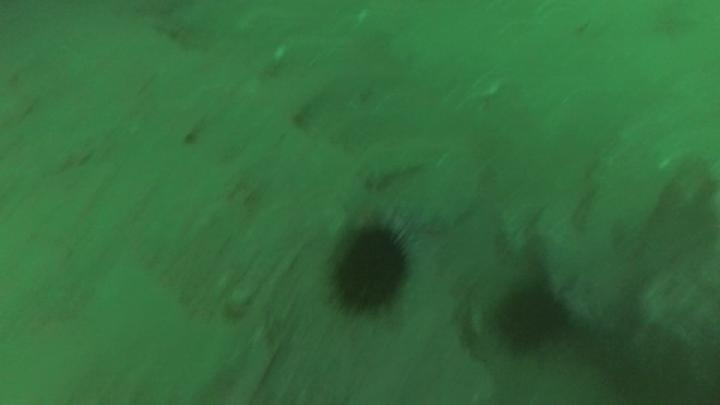echinus: (327, 220, 415, 317), (491, 280, 572, 354)
